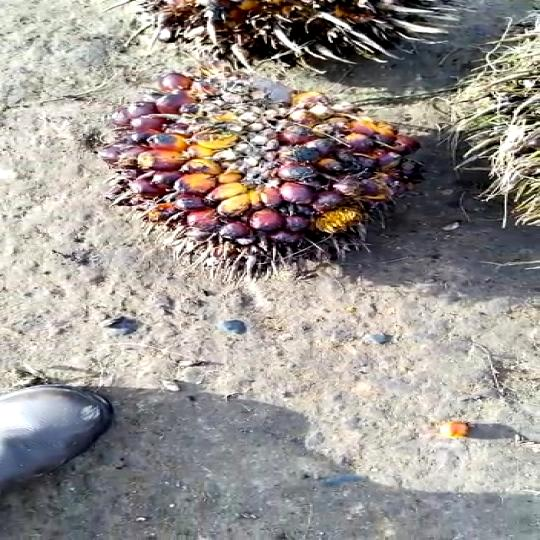masak: (82, 68, 432, 262)
